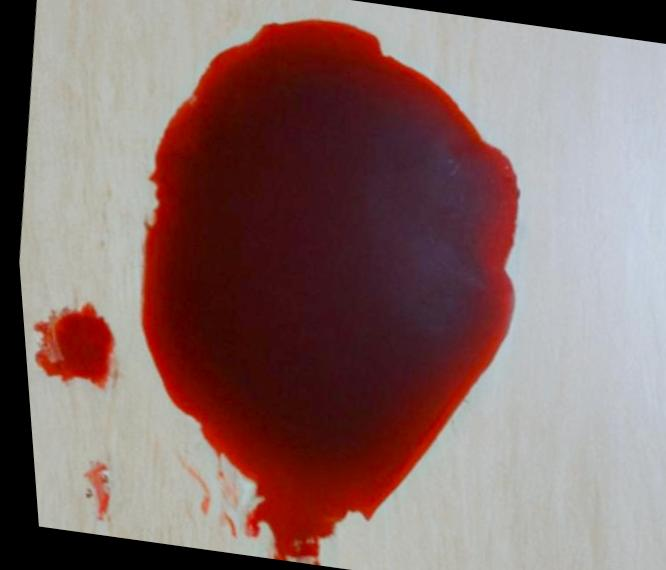Fire: (134, 17, 518, 565), (27, 301, 111, 389), (74, 462, 103, 521)
